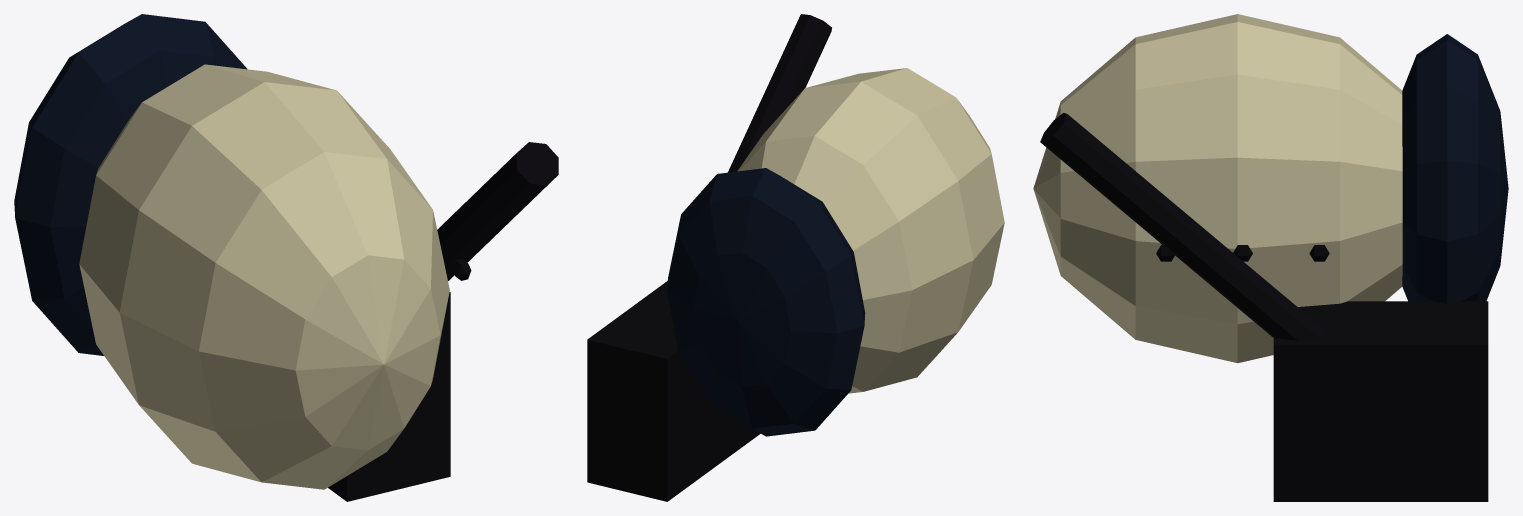
The model's file is Resident10Body.obj.
3 renders of one model, left to right at view 1: azimuth 30°, elevation 25°; view 2: azimuth 150°, elevation 25°; view 3: azimuth 270°, elevation 25°, orthographic. The views are drawn at different scales.
Parts seen in each view (by area): view 1: Resident10Body; view 2: Resident10Body; view 3: Resident10Body.
Boxes of the visible parts, x1=… form: Resident10Body: x1=14, y1=14, x2=558, y2=501; Resident10Body: x1=587, y1=14, x2=1004, y2=501; Resident10Body: x1=1033, y1=14, x2=1508, y2=501.
Bounding box in the file's own units: 68 × 85 × 93.
